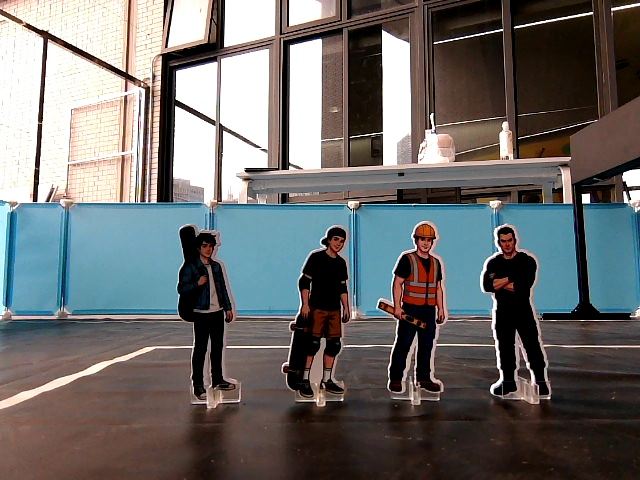community_person: (167, 218, 253, 420), (375, 215, 454, 412), (279, 219, 358, 413)
outsider: (475, 215, 561, 411)
